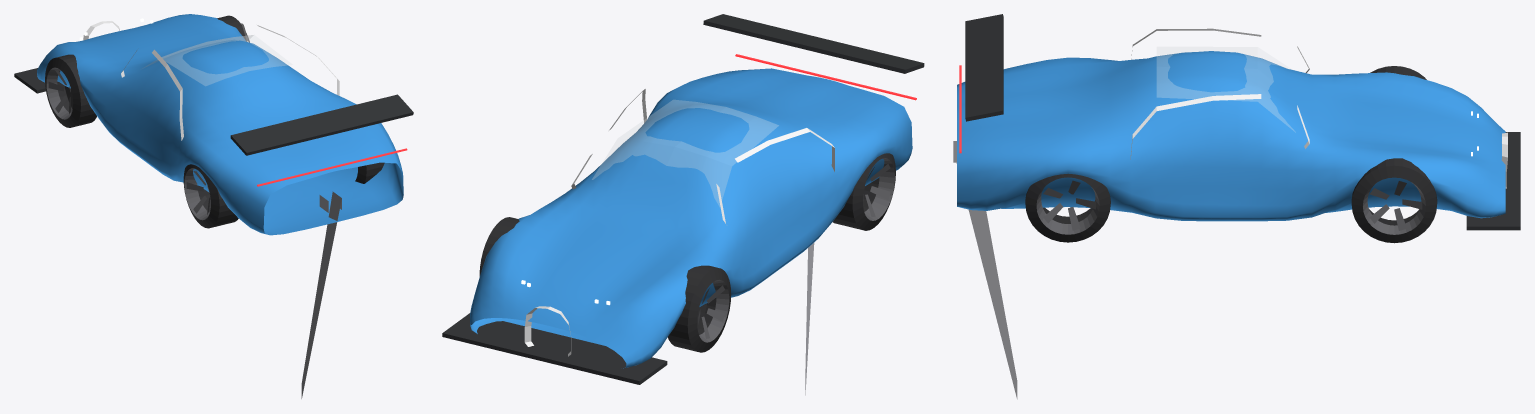
Rendered from vehicle.glb.
The picture shows the model from 3 angles, left to right: view 1: azimuth 30°, elevation 25°; view 2: azimuth 150°, elevation 25°; view 3: azimuth 270°, elevation 25°; orthographic projection. The views are drawn at different scales.
Parts seen in each view (by area): view 1: BODY_Chiron_Shell, AERO_Wing, WHEEL_FR_Tire, GLASS_Canopy, AERO_Exhaust, WHEEL_RR_Tire, WHEEL_RR_Rim, WHEEL_FR_Rim, AERO_C_Line, AERO_Splitter, LIGHT_Taillights, WHEEL_RL_Tire; view 2: BODY_Chiron_Shell, AERO_Splitter, GLASS_Canopy, AERO_Wing, WHEEL_FR_Tire, WHEEL_RR_Tire, WHEEL_RR_Rim, WHEEL_FR_Rim, AERO_C_Line, AERO_Exhaust, LIGHT_Taillights, WHEEL_FL_Tire (+1 smaller); view 3: BODY_Chiron_Shell, AERO_Wing, GLASS_Canopy, WHEEL_FL_Tire, WHEEL_RL_Tire, AERO_Exhaust, AERO_Splitter, WHEEL_RL_Rim, WHEEL_FL_Rim, AERO_C_Line.
Boxes of the visible parts, bbox=[...] form: BODY_Chiron_Shell: bbox=[37, 14, 403, 235]; AERO_Wing: bbox=[230, 94, 413, 155]; WHEEL_FR_Tire: bbox=[45, 54, 96, 127]; GLASS_Canopy: bbox=[142, 35, 292, 85]; AERO_Exhaust: bbox=[301, 191, 341, 398]; WHEEL_RR_Tire: bbox=[183, 164, 238, 228]; WHEEL_RR_Rim: bbox=[184, 168, 210, 220]; WHEEL_FR_Rim: bbox=[46, 67, 71, 119]; AERO_C_Line: bbox=[121, 23, 339, 140]; AERO_Splitter: bbox=[14, 68, 45, 93]; LIGHT_Taillights: bbox=[257, 148, 407, 186]; WHEEL_RL_Tire: bbox=[355, 162, 384, 183]; BODY_Chiron_Shell: bbox=[470, 68, 912, 368]; AERO_Splitter: bbox=[442, 313, 667, 384]; GLASS_Canopy: bbox=[592, 100, 778, 206]; AERO_Wing: bbox=[703, 14, 924, 73]; WHEEL_FR_Tire: bbox=[668, 265, 731, 352]; WHEEL_RR_Tire: bbox=[833, 153, 895, 230]; WHEEL_RR_Rim: bbox=[863, 158, 894, 220]; WHEEL_FR_Rim: bbox=[698, 279, 729, 342]; AERO_C_Line: bbox=[571, 89, 834, 223]; AERO_Exhaust: bbox=[805, 242, 814, 395]; LIGHT_Taillights: bbox=[735, 54, 916, 100]; WHEEL_FL_Tire: bbox=[479, 217, 519, 276]; BODY_Chiron_Shell: bbox=[957, 51, 1505, 221]; AERO_Wing: bbox=[965, 14, 1003, 121]; GLASS_Canopy: bbox=[1157, 47, 1295, 132]; WHEEL_FL_Tire: bbox=[1351, 158, 1437, 243]; WHEEL_RL_Tire: bbox=[1025, 173, 1110, 242]; AERO_Exhaust: bbox=[953, 141, 1017, 399]; AERO_Splitter: bbox=[1466, 132, 1520, 230]; WHEEL_RL_Rim: bbox=[1036, 180, 1099, 234]; WHEEL_FL_Rim: bbox=[1363, 181, 1425, 234]; AERO_C_Line: bbox=[1130, 28, 1309, 159].
Size of the model in its own units: 2.03 by 3.13 by 4.71.
